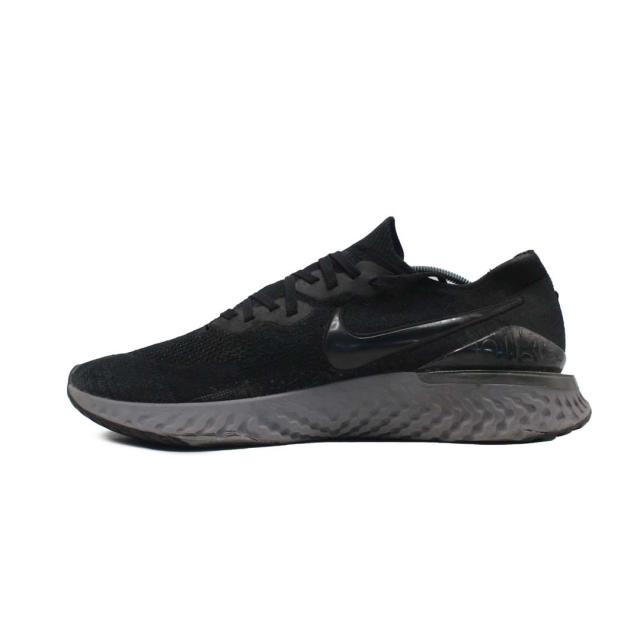heel: (517, 249, 566, 376)
midsole: (69, 368, 593, 449)
uppersole: (73, 217, 526, 405)
